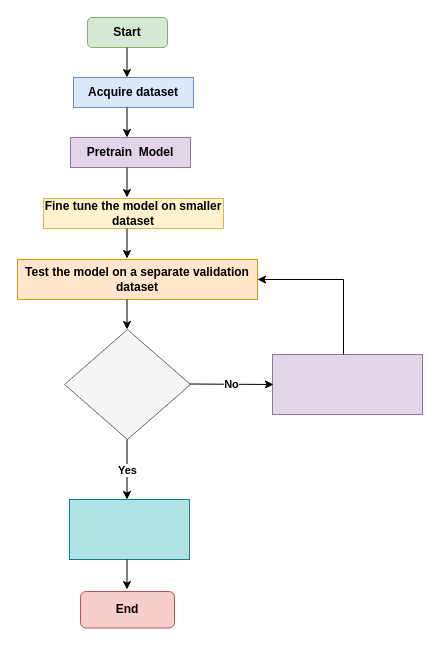
The diagram is 440 pixels wide and 646 high, and some of its shapes have lost their labels. Each missing label, with the box of its shape:
Adjust the membership values in the modified loss function and retrain the model: (272, 354, 422, 414)
Is model performing well: (64, 328, 190, 440)
Save the trained model and apply on target dataset: (68, 498, 190, 560)
